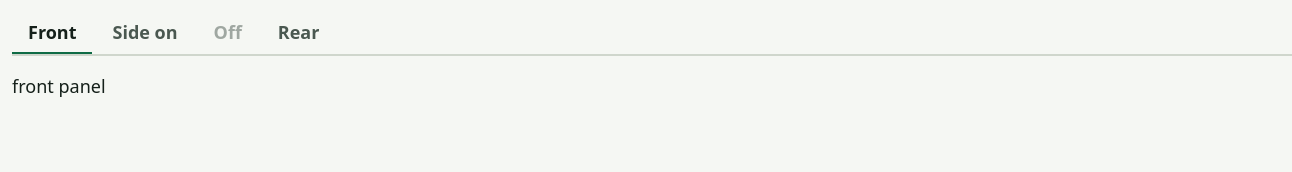
Tabs › selects on click
The image size is (1292, 172).
Step 1. Click the tab "Side on" → (145,34), box [96, 12, 194, 56]
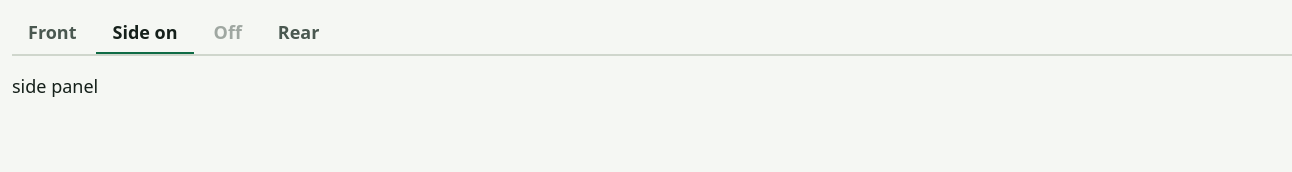
expect the panel reads "side panel": met, box [12, 74, 98, 98]
